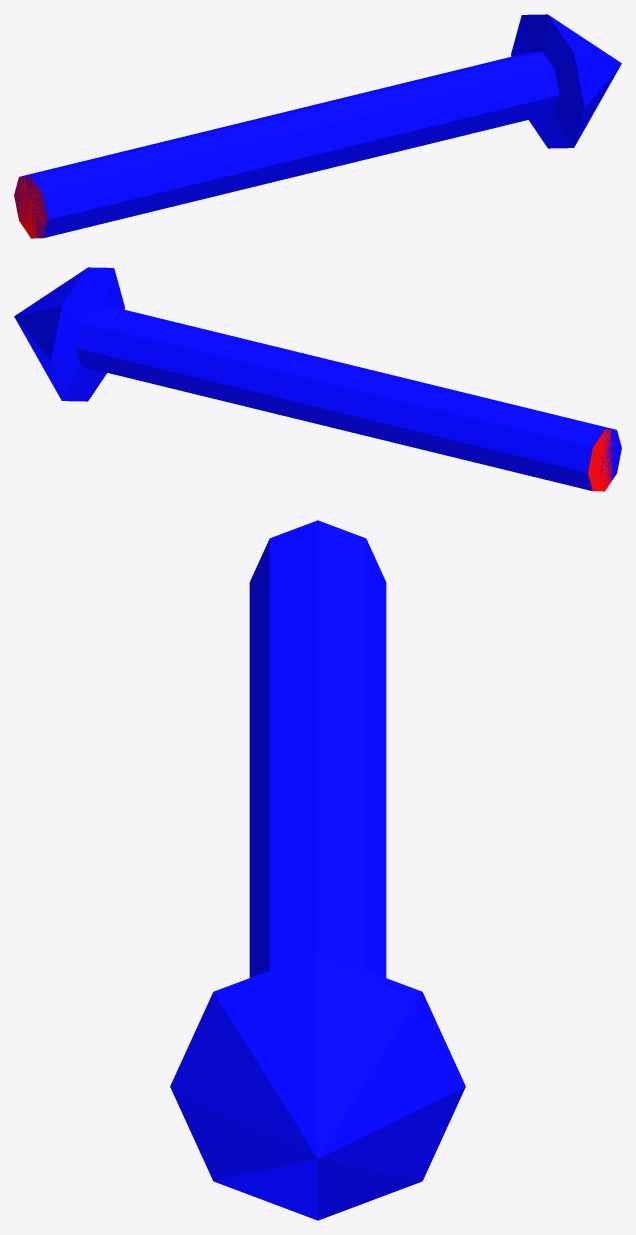
Rendered from Axes3DX.gltf.
3 views of the same model, one above another, from view 1: azimuth 30°, elevation 25°; view 2: azimuth 150°, elevation 25°; view 3: azimuth 270°, elevation 25° (orthographic). The views are drawn at different scales.
Visible parts, largest first — view 1: Axes; view 2: Axes; view 3: Axes.
Part boxes in pixels (x1=…): Axes: x1=14, y1=14, x2=621, y2=238; Axes: x1=14, y1=267, x2=621, y2=491; Axes: x1=170, y1=520, x2=465, y2=1220.
Bounding box in the file's own units: 1 × 0.2168 × 0.2168.
